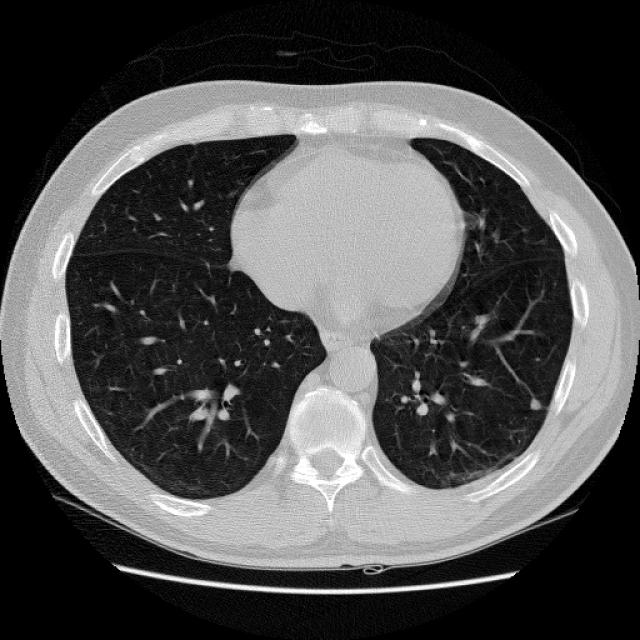nodule: (520, 390, 548, 418)
